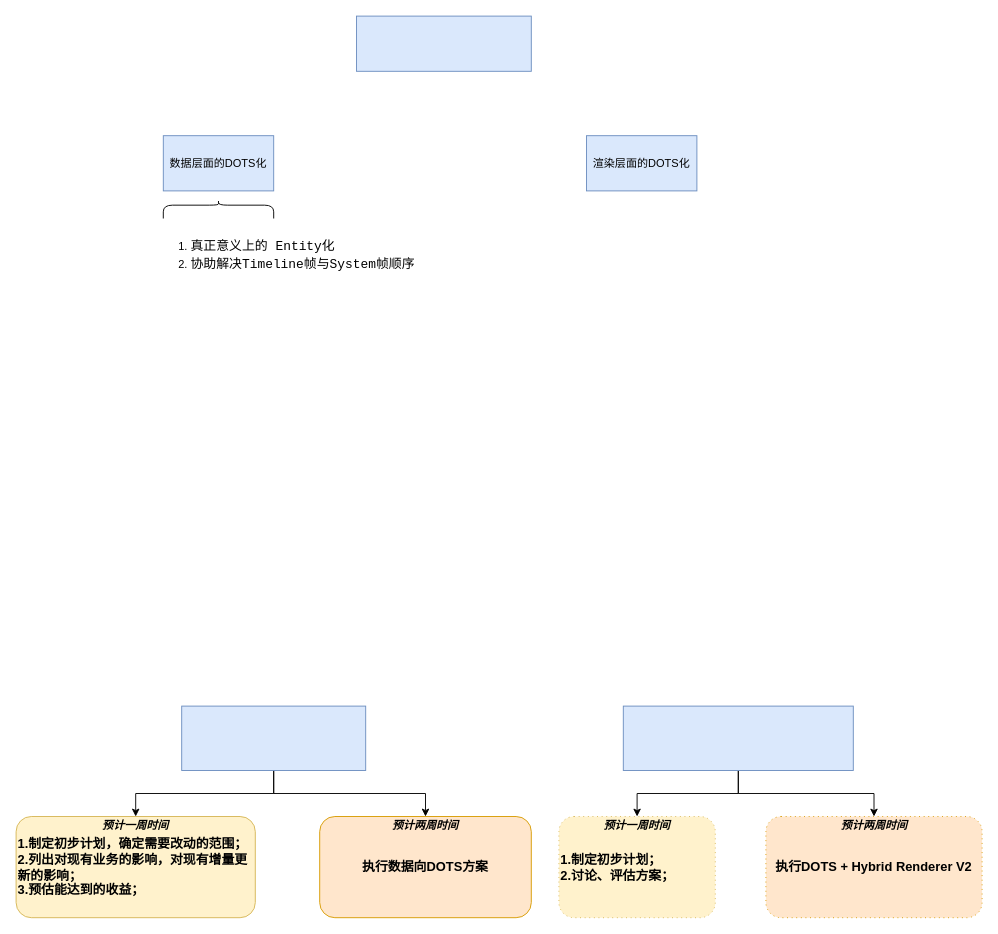
Image size: 998x934. Some labels were removed from this diagram. The centre of each missing label's shape, as x and y in pixels:
"DOTS + Hybrid Render" goes at (443,43).
"DOTS + Hybrid Renderer v2" goes at (737,737).
"数据向DOTS化" goes at (273,737).
